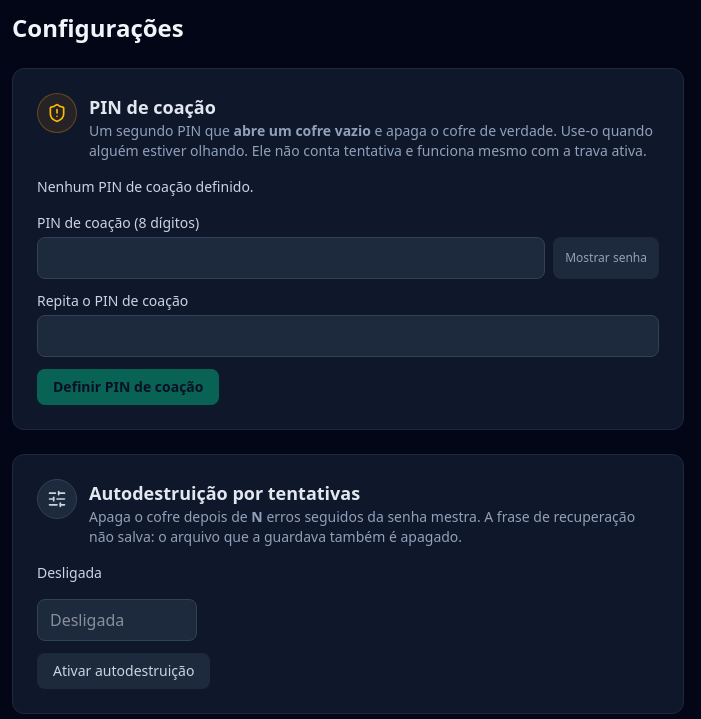
Scenario: Configurações: PIN de pânico › envia o PIN de coação pelo canal quando os dois batem
The width and height of the screenshot is (701, 719).
Type "73910456" into the password field labelled "PIN de coação (8 dígitos)" at coordinates (291, 258), box [37,237,545,279]
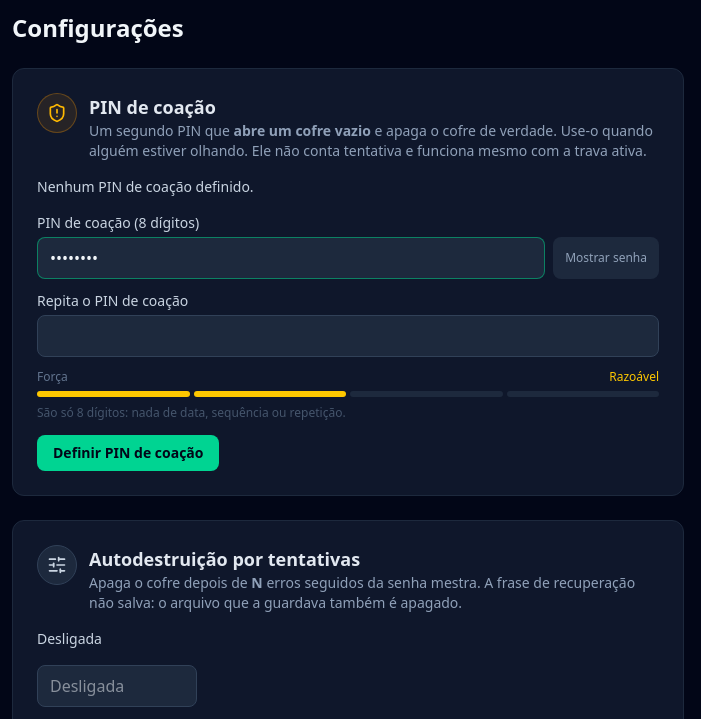
Type "73910456" into the password field labelled "Repita o PIN de coação" at coordinates (348, 336), box [37,315,659,357]
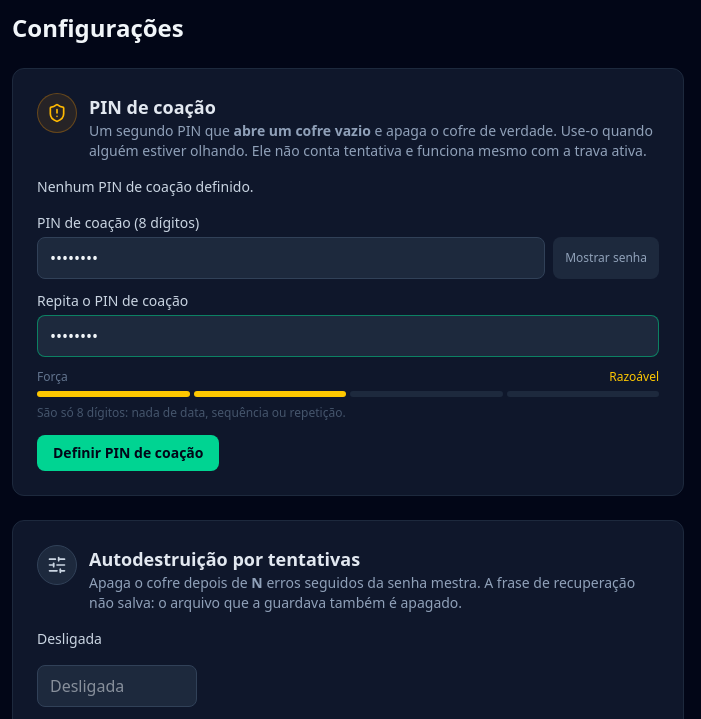
Click the button "Definir PIN de coação" at coordinates (128, 452), box [37,434,220,470]
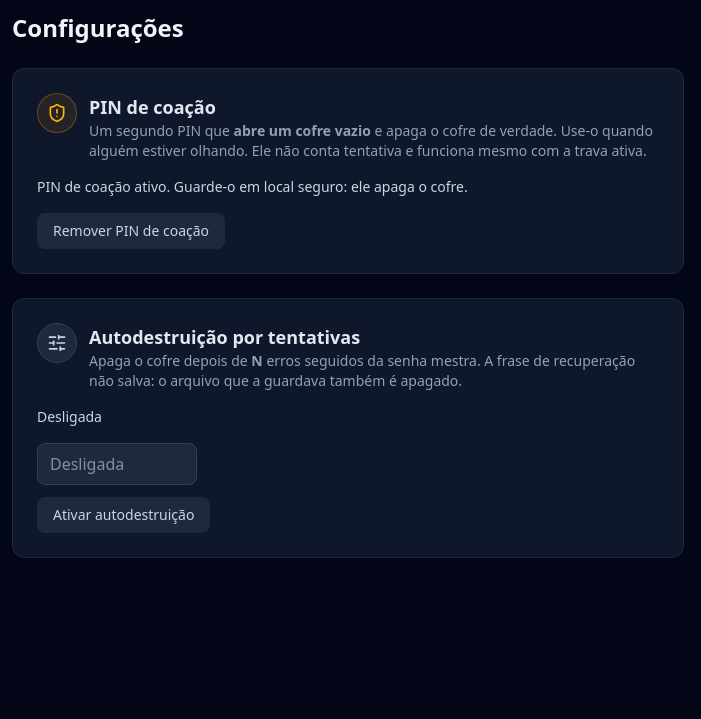
Expected: the text "PIN de coação ativo" is shown, [37,177,468,196]
